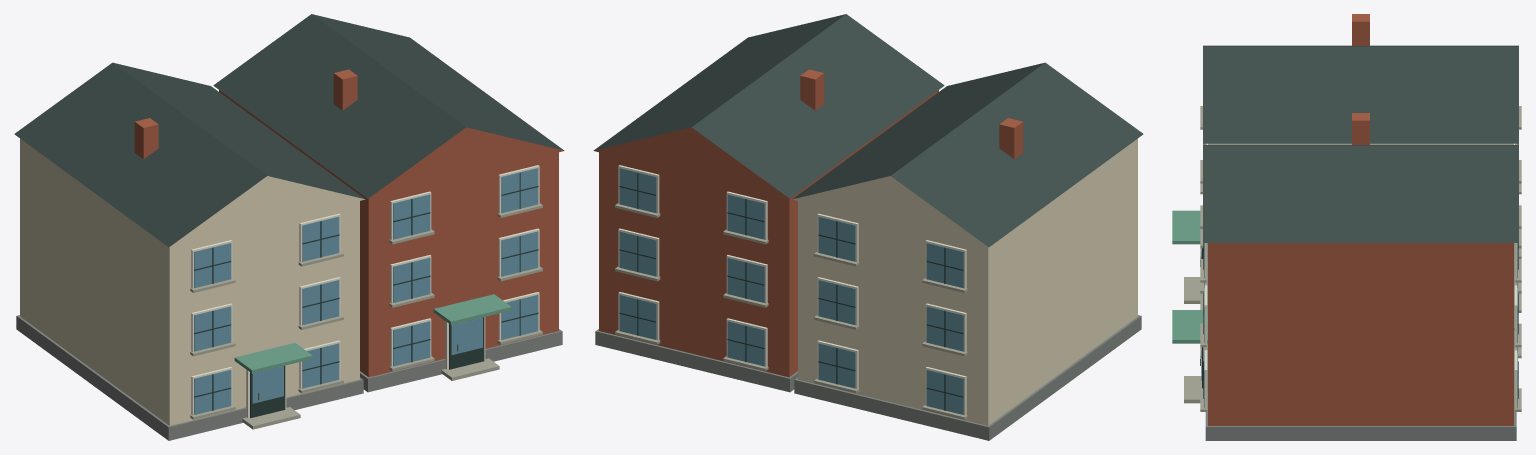
Rendered from TownhousePair.obj.
3 views of the same model, side by side, from view 1: azimuth 30°, elevation 25°; view 2: azimuth 150°, elevation 25°; view 3: azimuth 270°, elevation 25° (orthographic). The views are drawn at different scales.
Visible parts, largest first — view 1: TownhousePair; view 2: TownhousePair; view 3: TownhousePair.
Part boxes in pixels (box(x1,y1,x2,y2)): TownhousePair: box(14, 14, 564, 440); TownhousePair: box(593, 14, 1143, 440); TownhousePair: box(1172, 14, 1521, 440).
Size of the model in its own units: 18.3 by 11.01 by 13.7.
Materials: 1 (1 with a texture image).
